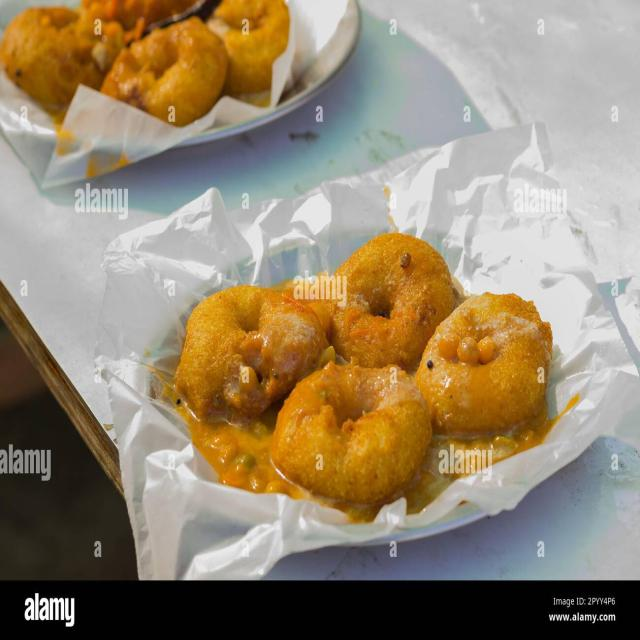MEDU VADA: (0, 0, 297, 128), (262, 352, 434, 507), (177, 269, 339, 403), (317, 227, 458, 372), (416, 282, 552, 419)
